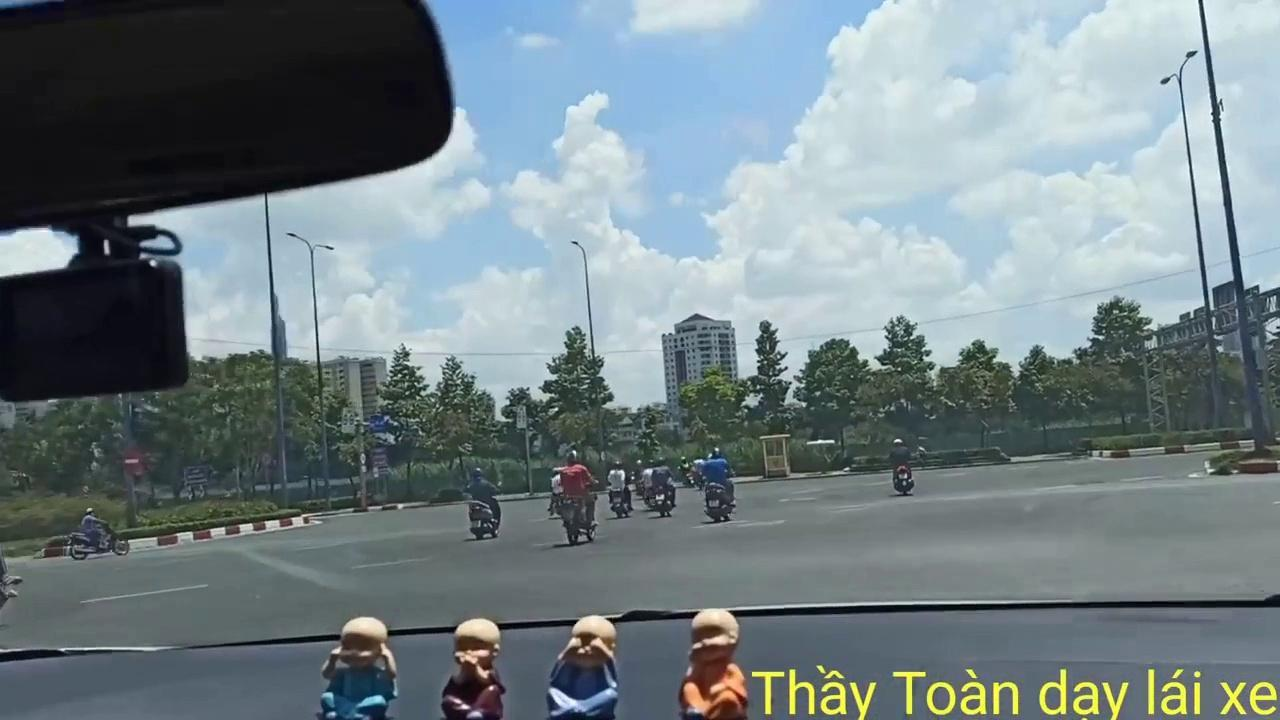Cấm cac phương tiện hoạt động trong khung giờ cố định: (341, 406, 355, 434)
Cấm đi ngược chiều: (120, 446, 146, 475)
